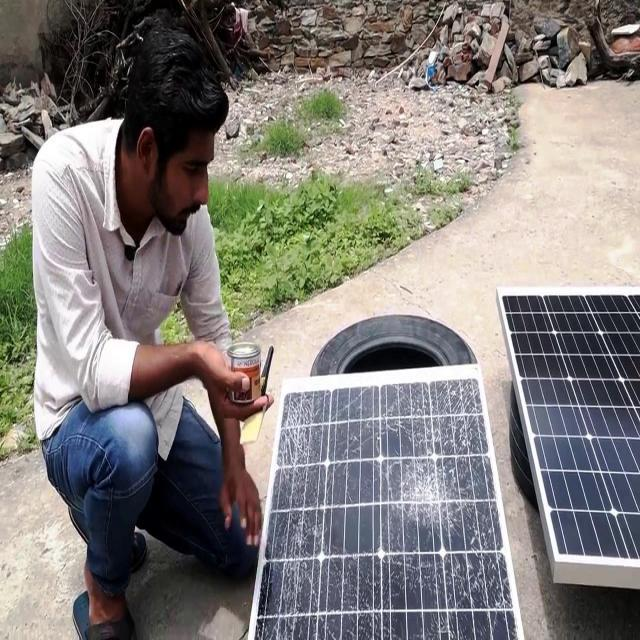faulty: (255, 376, 520, 637)
no faulty: (500, 286, 640, 566)
